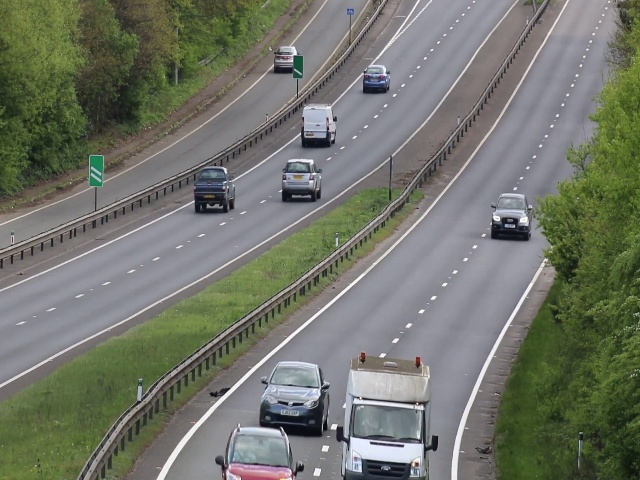car: (341, 357, 432, 480), (259, 358, 328, 435), (218, 428, 297, 480), (192, 163, 238, 215), (490, 192, 534, 243), (279, 156, 323, 203), (300, 103, 338, 145), (362, 60, 390, 95), (271, 45, 303, 74)
